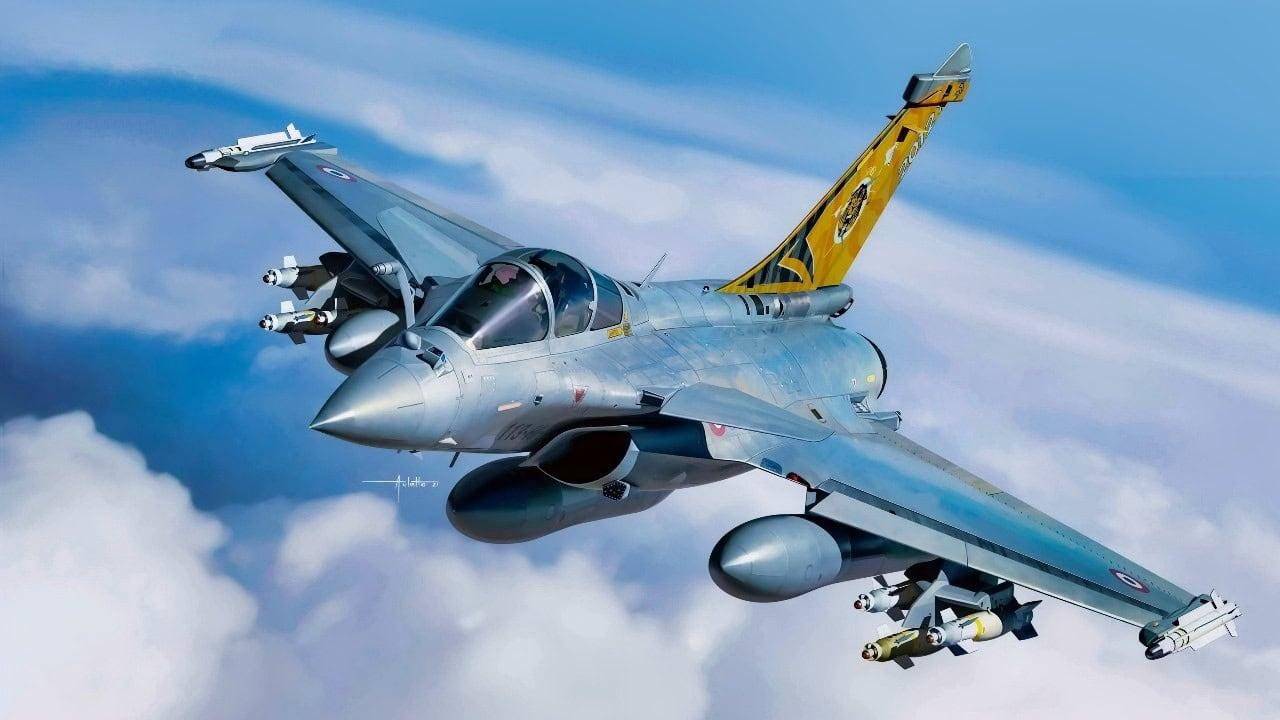aircraft: (83, 52, 1248, 665)
